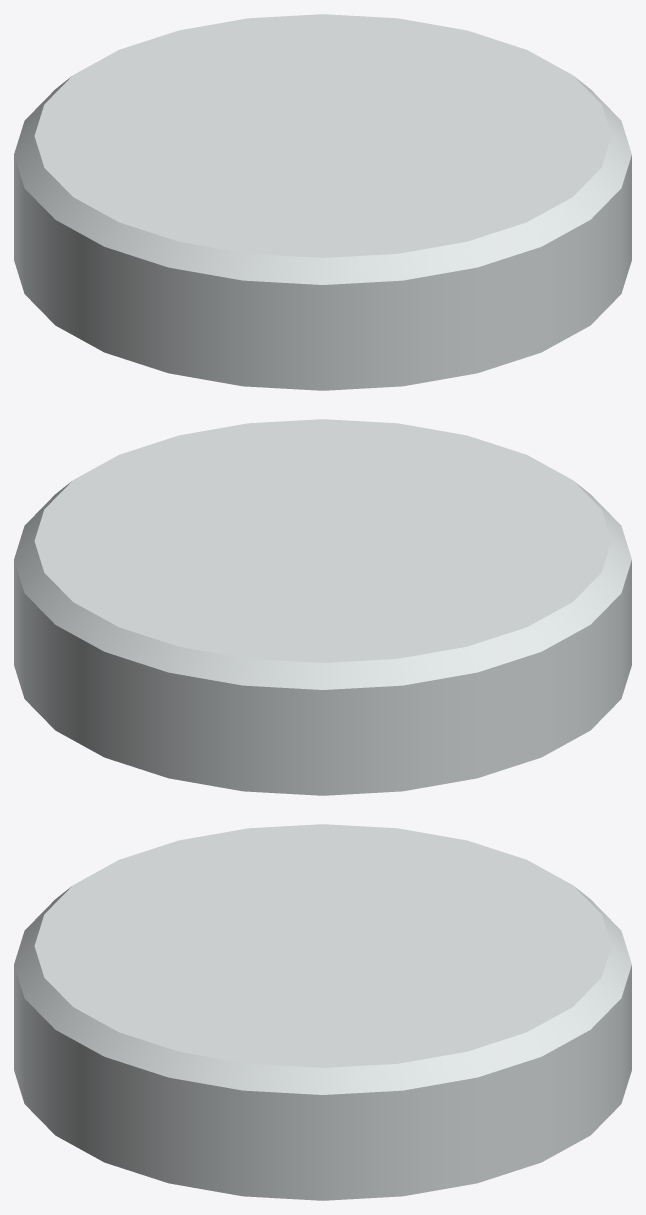
The model's file is Part - Simlpe form 12-DNpMZPfm.glb.
The picture shows the model from 3 angles, top to bottom: view 1: azimuth 30°, elevation 25°; view 2: azimuth 150°, elevation 25°; view 3: azimuth 270°, elevation 25°; orthographic projection.
Parts seen in each view (by area): view 1: Simlpe_form_12; view 2: Simlpe_form_12; view 3: Simlpe_form_12.
Part boxes in pixels (x1=…): Simlpe_form_12: x1=14, y1=14, x2=631, y2=390; Simlpe_form_12: x1=14, y1=419, x2=631, y2=795; Simlpe_form_12: x1=14, y1=824, x2=631, y2=1200.
Bounding box in the file's own units: 1.5 × 0.3326 × 1.5.
Materials: 1 (1 with a texture image).
